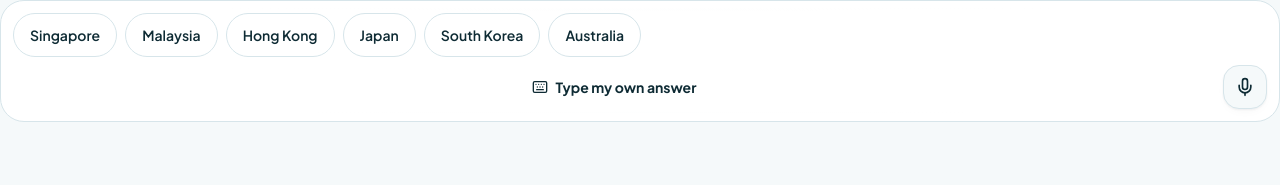
Test case: the microphone on a helper › opens the answer box already listening, in the coach's language
Click the button named "Speak your answer" at (1245, 87), box [1223,65,1267,109]
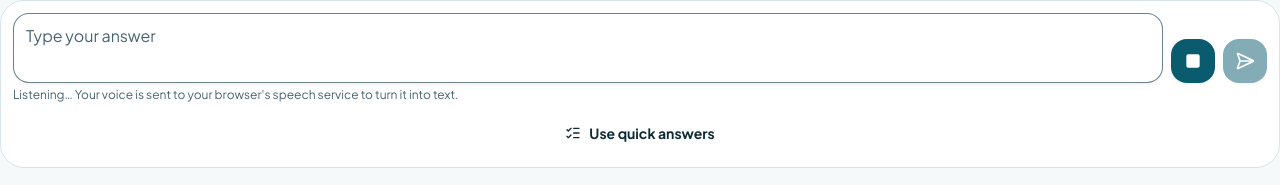
Expected: the text box is shown, [13,13,1163,83]
Expected: the message shows "Listening", [13,87,458,102]
